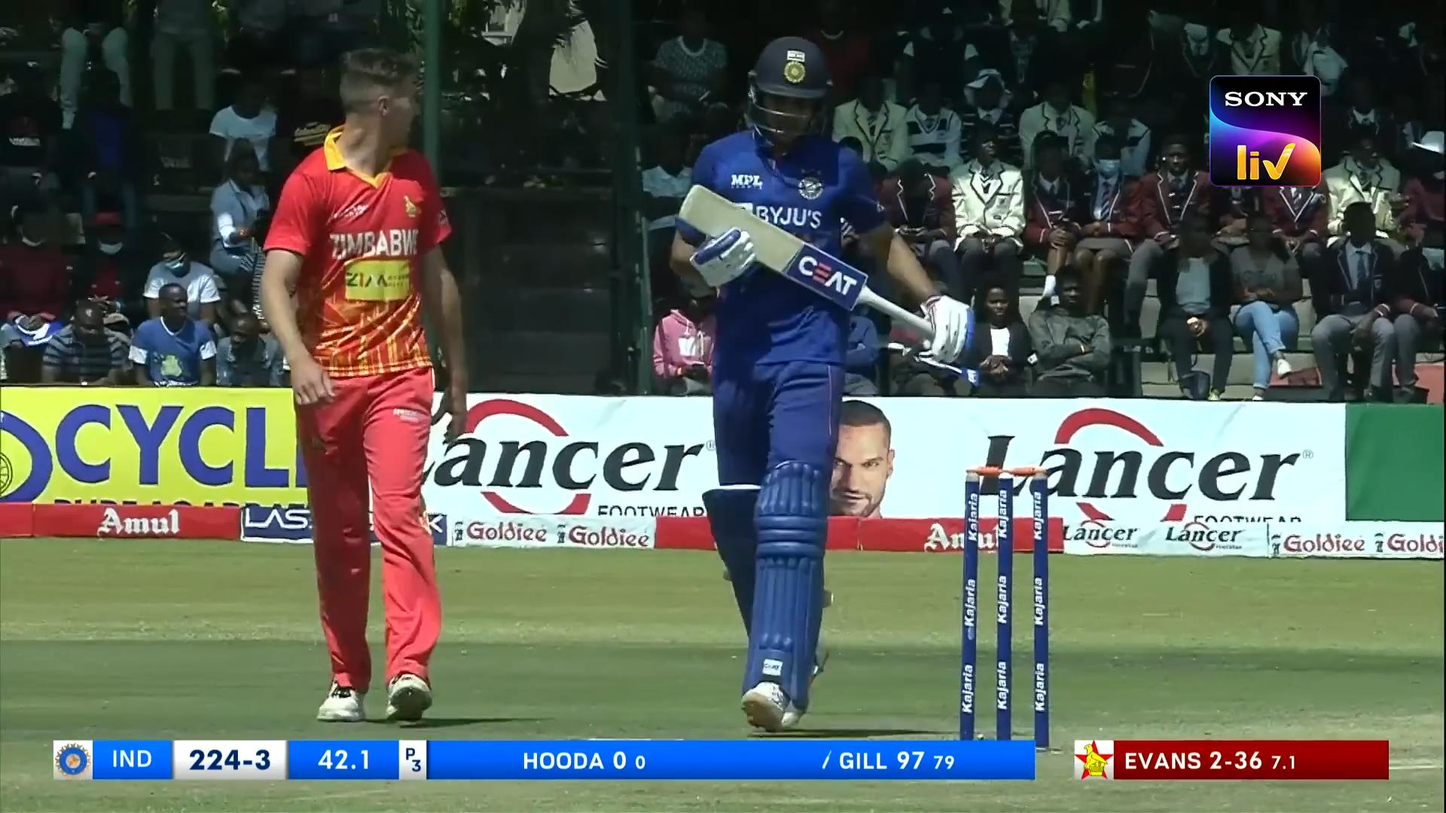batsman: (666, 36, 977, 732)
